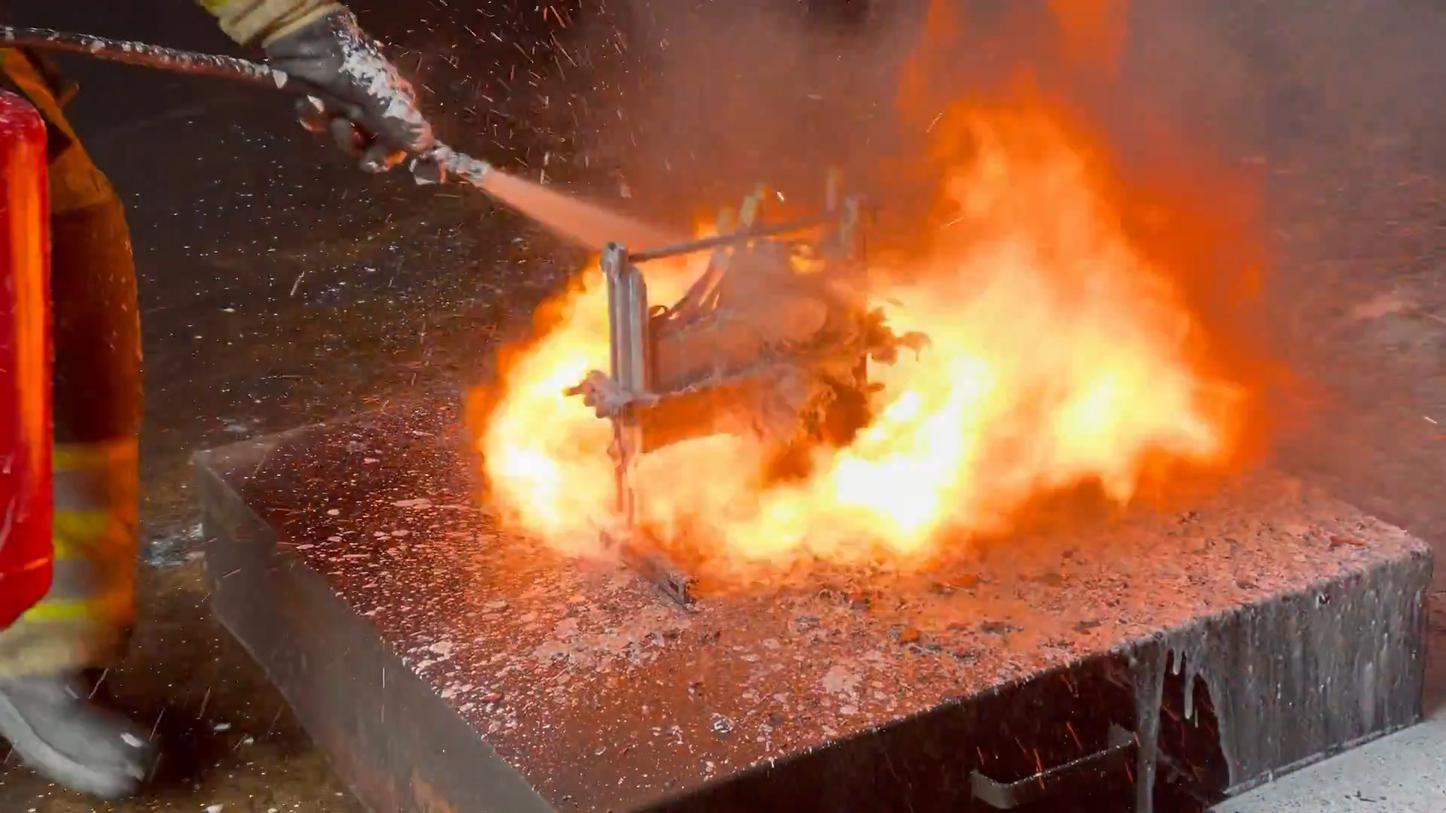fire: (461, 61, 1275, 593)
smoke: (576, 0, 1446, 309)
